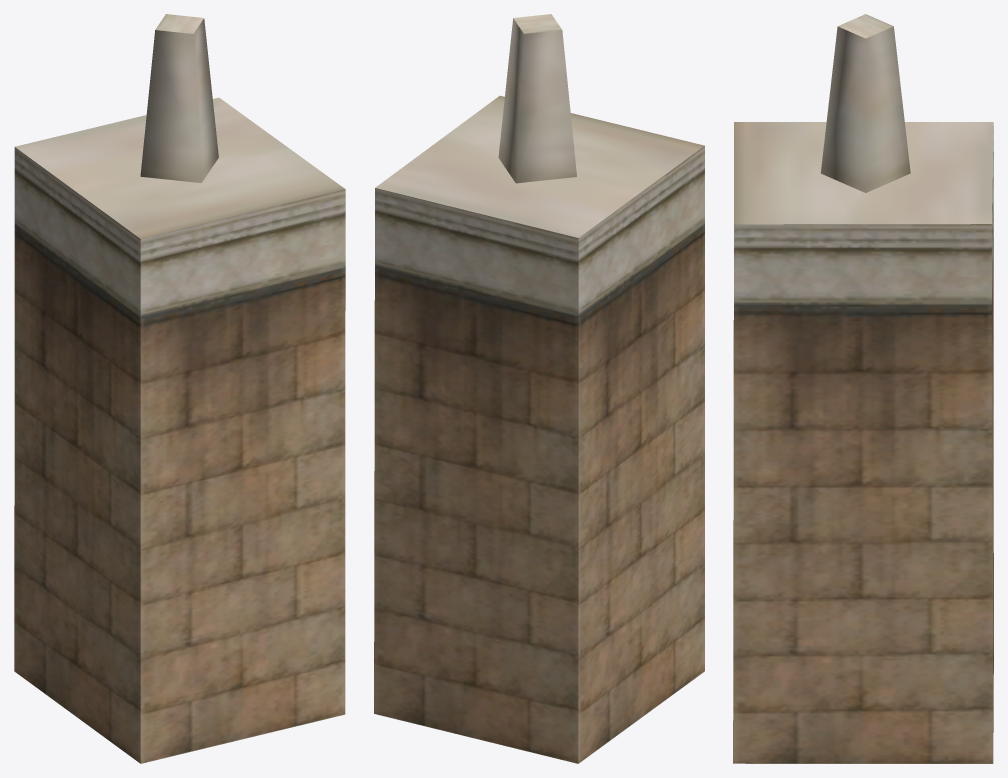
Rendered from thm_nboo_imprv_pillar_s02_l3.fbx.
The picture shows the model from 3 angles, left to right: view 1: azimuth 30°, elevation 25°; view 2: azimuth 150°, elevation 25°; view 3: azimuth 270°, elevation 25°; orthographic projection. The views are drawn at different scales.
Visible parts, largest first — view 1: mesh_node; view 2: mesh_node; view 3: mesh_node.
Part boxes in pixels (x1=…): mesh_node: x1=14, y1=14, x2=345, y2=763; mesh_node: x1=374, y1=14, x2=704, y2=763; mesh_node: x1=733, y1=14, x2=993, y2=763.
Bounding box in the file's own units: 2.03 × 6.33 × 2.18.
1 material, 1 textured.
